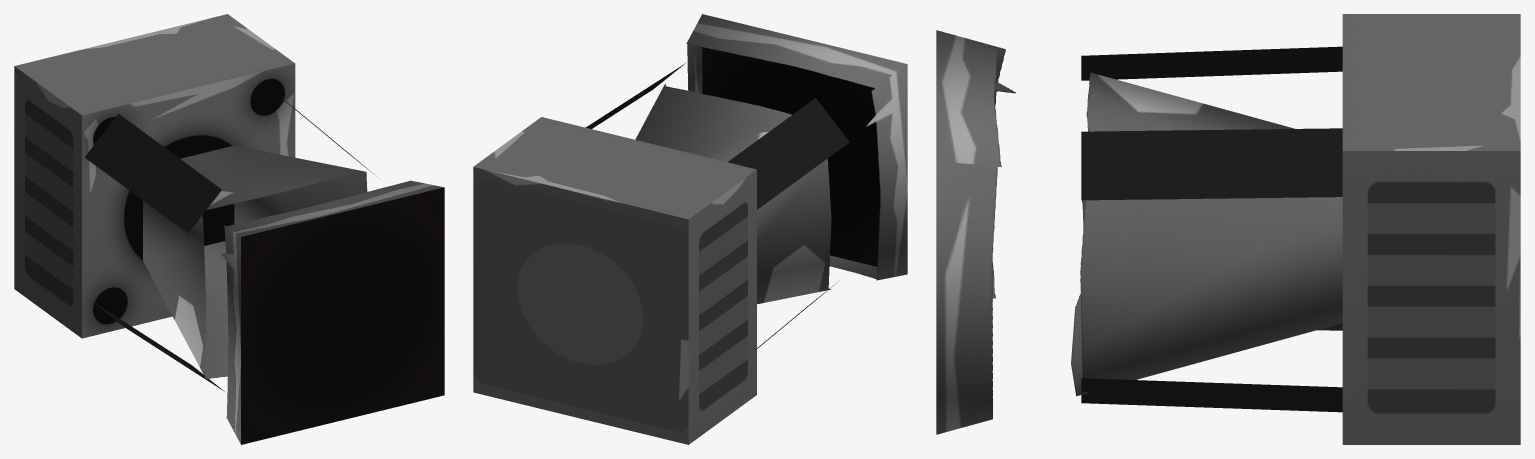
The model's file is obj_interactive_thruster_lod1.fbx.
3 renders of one model, left to right at view 1: azimuth 30°, elevation 25°; view 2: azimuth 150°, elevation 25°; view 3: azimuth 270°, elevation 25°, orthographic. The views are drawn at different scales.
Visible parts, largest first — view 1: pCube4; view 2: pCube4; view 3: pCube4.
Part boxes in pixels (bbox=[...]): pCube4: bbox=[14, 14, 444, 444]; pCube4: bbox=[473, 14, 907, 444]; pCube4: bbox=[936, 14, 1520, 444].
Bounding box in the file's own units: 2 × 2 × 3.6.
1 material, 1 textured.
